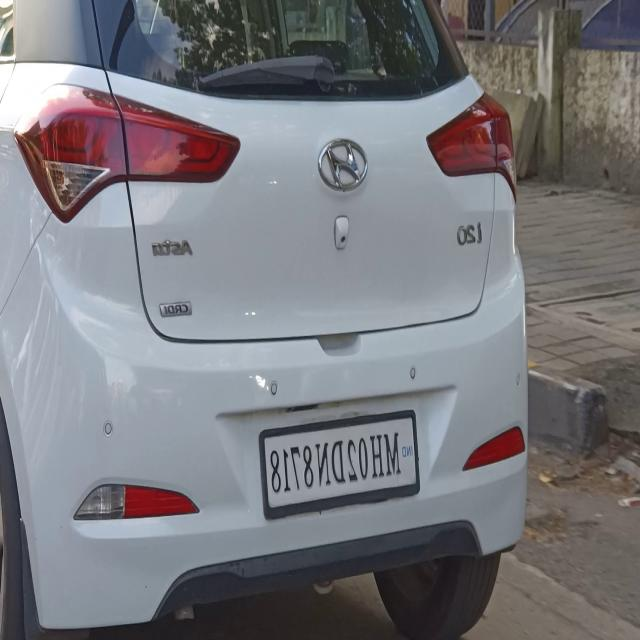license_plate: (258, 403, 422, 521)
